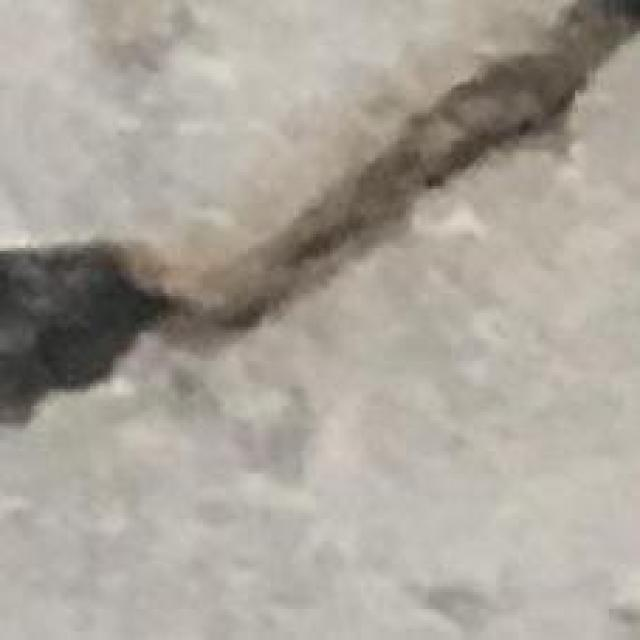Crack: (9, 3, 637, 420)
